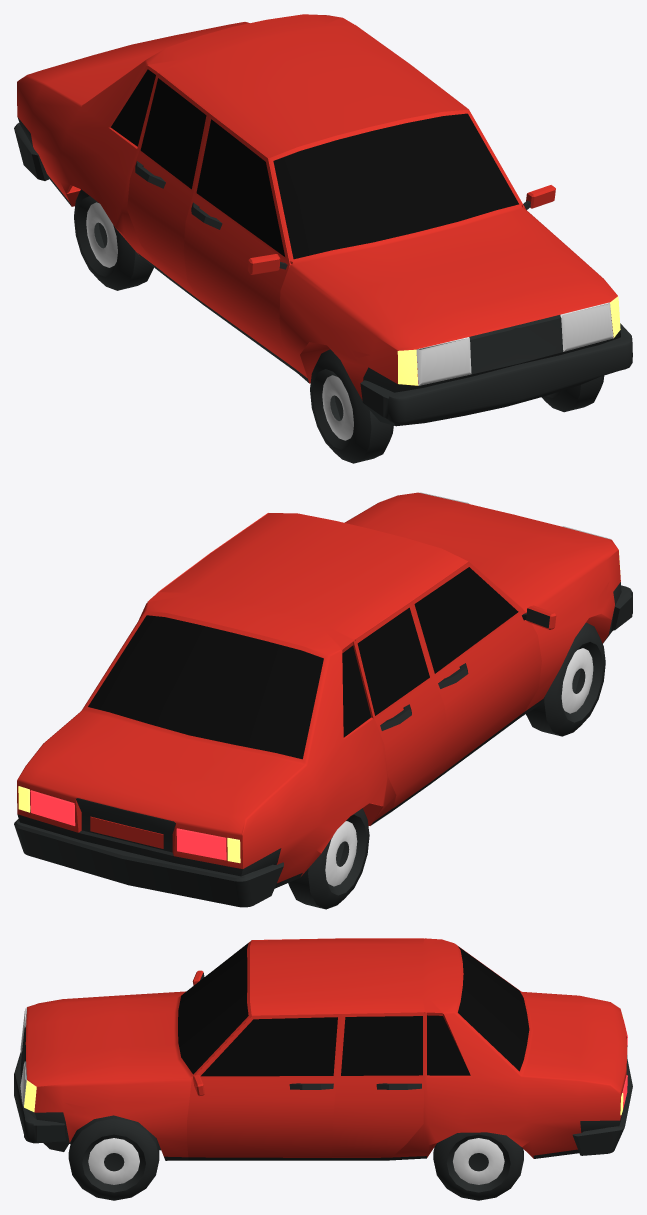
The model's file is UrbanBox.fbx.
3 views of the same model, one above another, from view 1: azimuth 30°, elevation 25°; view 2: azimuth 150°, elevation 25°; view 3: azimuth 270°, elevation 25° (orthographic). The views are drawn at different scales.
Parts seen in each view (by area): view 1: car, front_right_door, back_right_door, front_right_wheel, back_left_wheel, front_left_wheel, front_left_door; view 2: car, front_right_door, back_right_door, front_right_wheel, back_left_wheel; view 3: car, front_left_door, back_left_door, front_left_wheel, back_left_wheel..
Part boxes in pixels (left/top/right/bottom): car: left=14, top=14, right=632, bottom=426; front_right_door: left=183, top=113, right=296, bottom=372; back_right_door: left=127, top=73, right=209, bottom=304; front_right_wheel: left=310, top=349, right=393, bottom=463; back_left_wheel: left=74, top=189, right=153, bottom=290; front_left_wheel: left=541, top=375, right=604, bottom=412; front_left_door: left=410, top=64, right=555, bottom=209; car: left=14, top=492, right=632, bottom=907; front_right_door: left=411, top=562, right=556, bottom=783; back_right_door: left=355, top=602, right=448, bottom=810; front_right_wheel: left=526, top=622, right=605, bottom=736; back_left_wheel: left=288, top=808, right=369, bottom=909; car: left=14, top=938, right=632, bottom=1160; front_left_door: left=187, top=1014, right=341, bottom=1160; back_left_door: left=332, top=1012, right=424, bottom=1160; front_left_wheel: left=68, top=1115, right=159, bottom=1200; back_left_wheel.: left=433, top=1132, right=523, bottom=1200.
Size of the model in its own units: 174 by 133 by 394.
